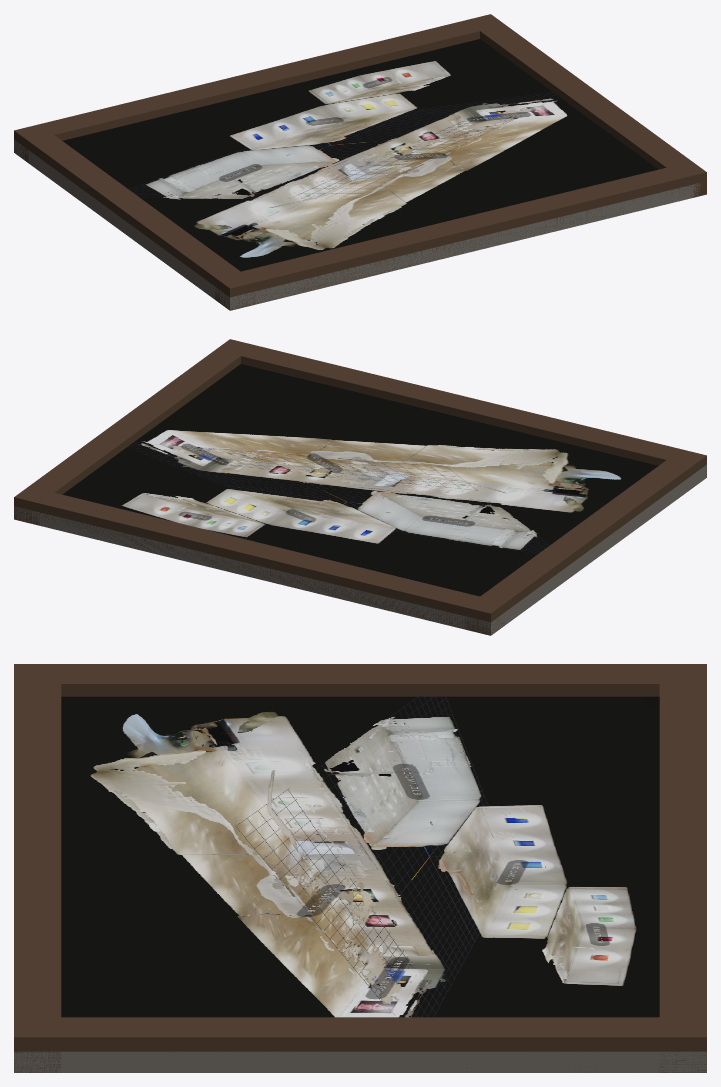
Rendered from framed_artwork.glb.
3 renders of one model, top to bottom at view 1: azimuth 30°, elevation 25°; view 2: azimuth 150°, elevation 25°; view 3: azimuth 270°, elevation 25°, orthographic. The views are drawn at different scales.
Parts seen in each view (by area): view 1: Artwork_Image_Front, Frame_Bottom, Frame_Top, Back_Board, Frame_Right, Frame_Left; view 2: Artwork_Image_Front, Frame_Top, Frame_Bottom, Back_Board, Frame_Left, Frame_Right; view 3: Artwork_Image_Front, Frame_Right, Frame_Left, Frame_Bottom, Frame_Top, Back_Board.
Part boxes in pixels (x1,y1,x2,y2): Artwork_Image_Front: (62,39,658,271); Frame_Bottom: (215,167,704,310); Frame_Top: (14,14,503,162); Back_Board: (14,139,702,310); Frame_Right: (466,14,706,198); Frame_Left: (14,124,255,310); Artwork_Image_Front: (62,364,658,596); Frame_Top: (14,492,505,634); Frame_Bottom: (216,339,706,474); Back_Board: (14,464,706,635); Frame_Left: (465,449,706,635); Frame_Right: (14,340,254,525); Artwork_Image_Front: (61,696,659,1017); Frame_Right: (14,1017,706,1071); Frame_Left: (14,664,706,696); Frame_Bottom: (14,664,61,1072); Frame_Top: (659,664,706,1072); Back_Board: (14,1051,706,1072).
Bounding box in the file's own units: 2.24 × 0.1 × 1.76.
Materials: 3 (1 with a texture image).
